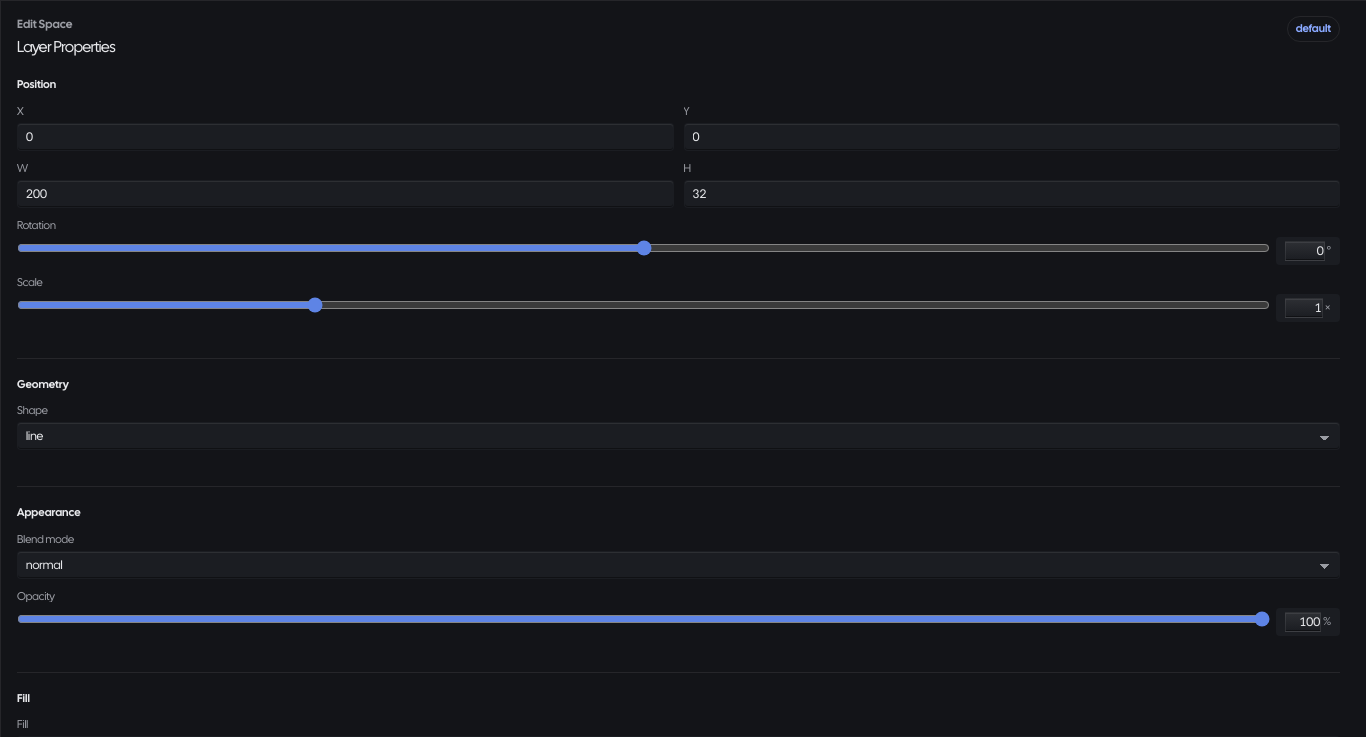
Test: Inspector Stroke (Fase 4) › rótulo honesto na linha: a espessura efetiva parte da altura do corpo
Expected: the text "px efetivos" is not shown
Set the slider named "Scale" to "2": (631, 305) left=17, top=297, right=1270, bottom=313
(page scrolled)
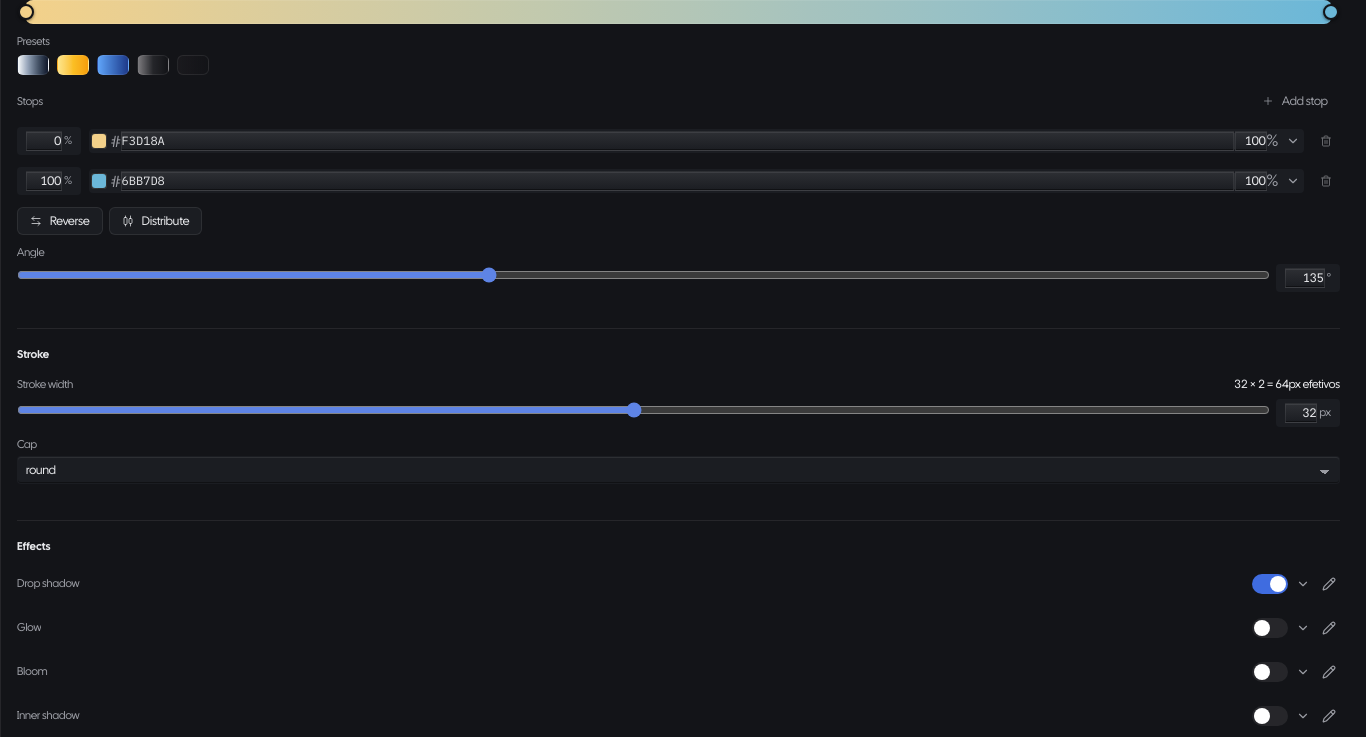
Now the text "32 × 2 = 64px efetivos" is shown, box left=1234, top=376, right=1340, bottom=393
